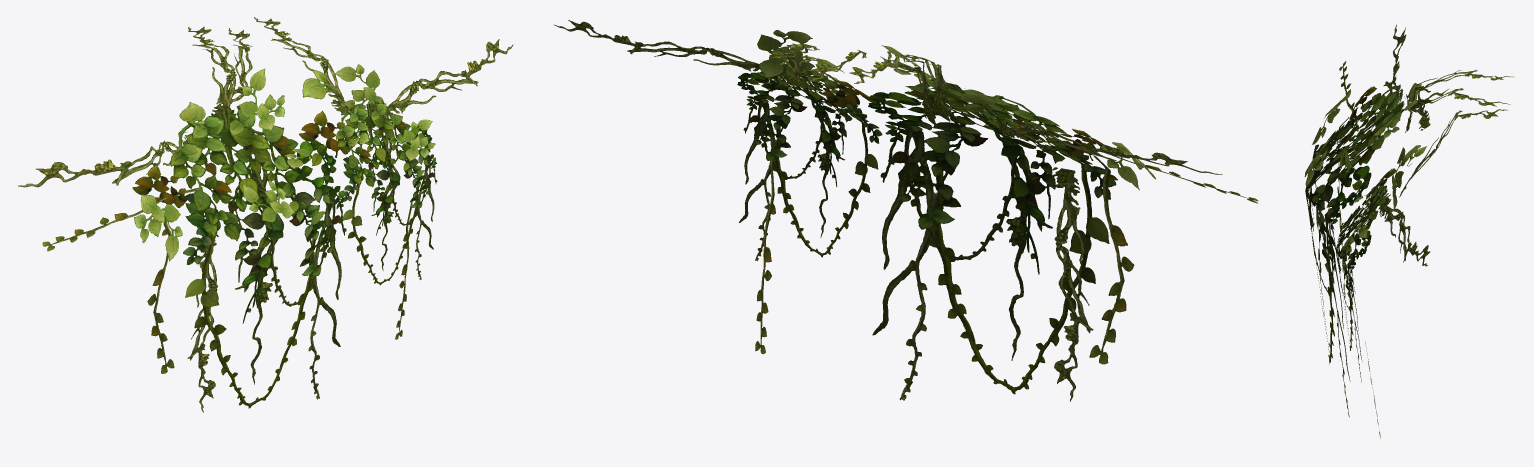
Rendered from S_Tree_Green036.FBX.
The picture shows the model from 3 angles, left to right: view 1: azimuth 30°, elevation 25°; view 2: azimuth 150°, elevation 25°; view 3: azimuth 270°, elevation 25°; orthographic projection. The views are drawn at different scales.
Visible parts, largest first — view 1: S_Tree_Green036; view 2: S_Tree_Green036; view 3: S_Tree_Green036.
Boxes of the visible parts, bbox=[...] form: S_Tree_Green036: bbox=[18, 17, 513, 412]; S_Tree_Green036: bbox=[554, 20, 1258, 401]; S_Tree_Green036: bbox=[1304, 24, 1514, 438].
Bounding box in the file's own units: 348 × 212 × 128.
